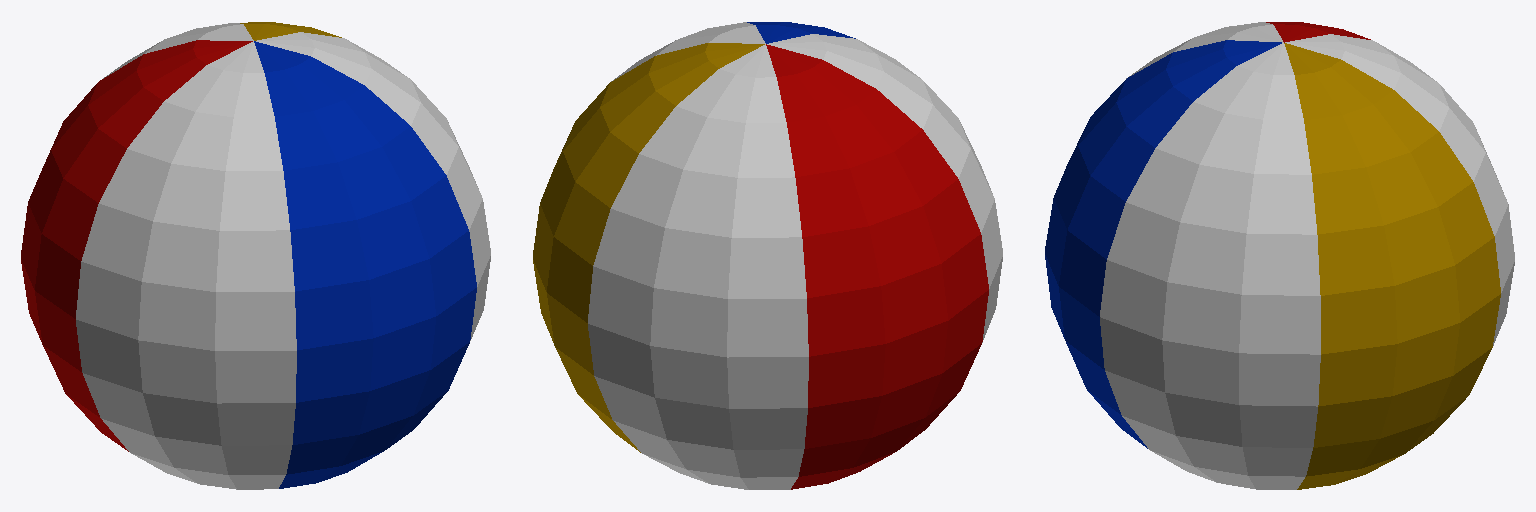
The model's file is beachball.obj.
3 views of the same model, side by side, from view 1: azimuth 30°, elevation 25°; view 2: azimuth 150°, elevation 25°; view 3: azimuth 270°, elevation 25° (orthographic).
Visible parts, largest first — view 1: Sphere; view 2: Sphere; view 3: Sphere.
Boxes of the visible parts, <box> form: Sphere: <box>21,22,490,489</box>; Sphere: <box>533,22,1002,489</box>; Sphere: <box>1045,22,1514,489</box>.
Size of the model in its own units: 0.7001 by 0.7108 by 0.7108.